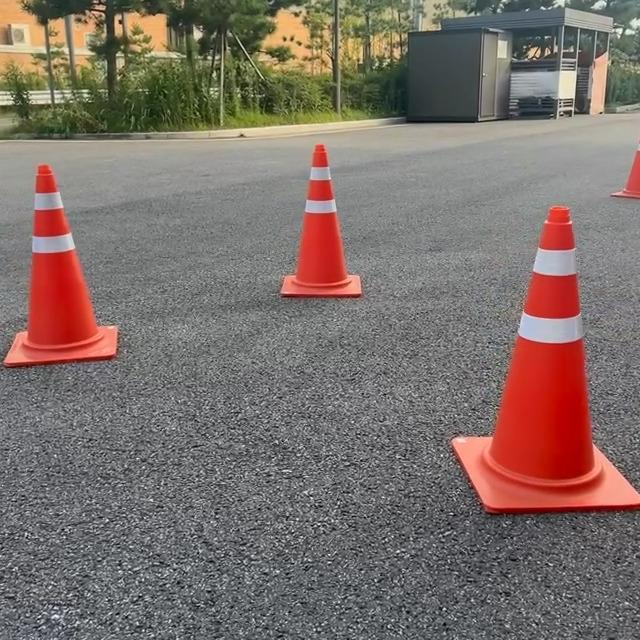fallen_object: (426, 193, 640, 528), (0, 140, 144, 388), (217, 102, 369, 322), (570, 97, 640, 233)
